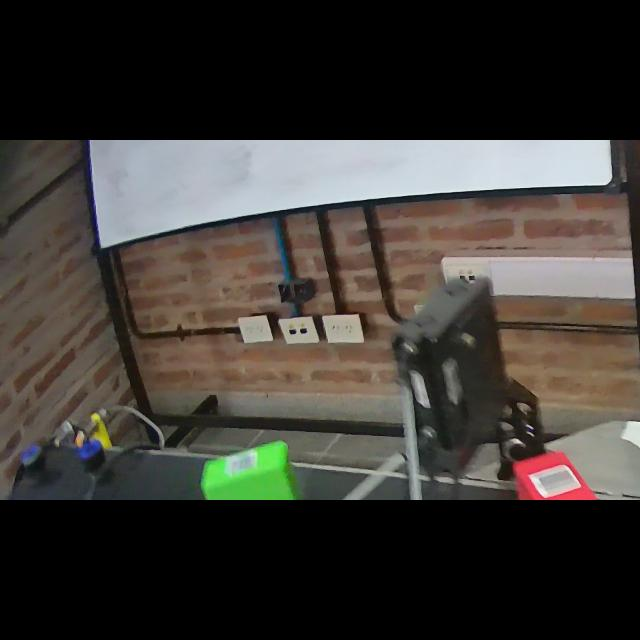greenBox: (195, 438, 308, 499)
redBox: (512, 450, 612, 500)
